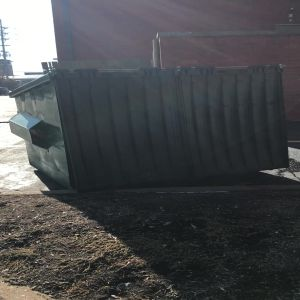Dumpster: (7, 62, 293, 185)
